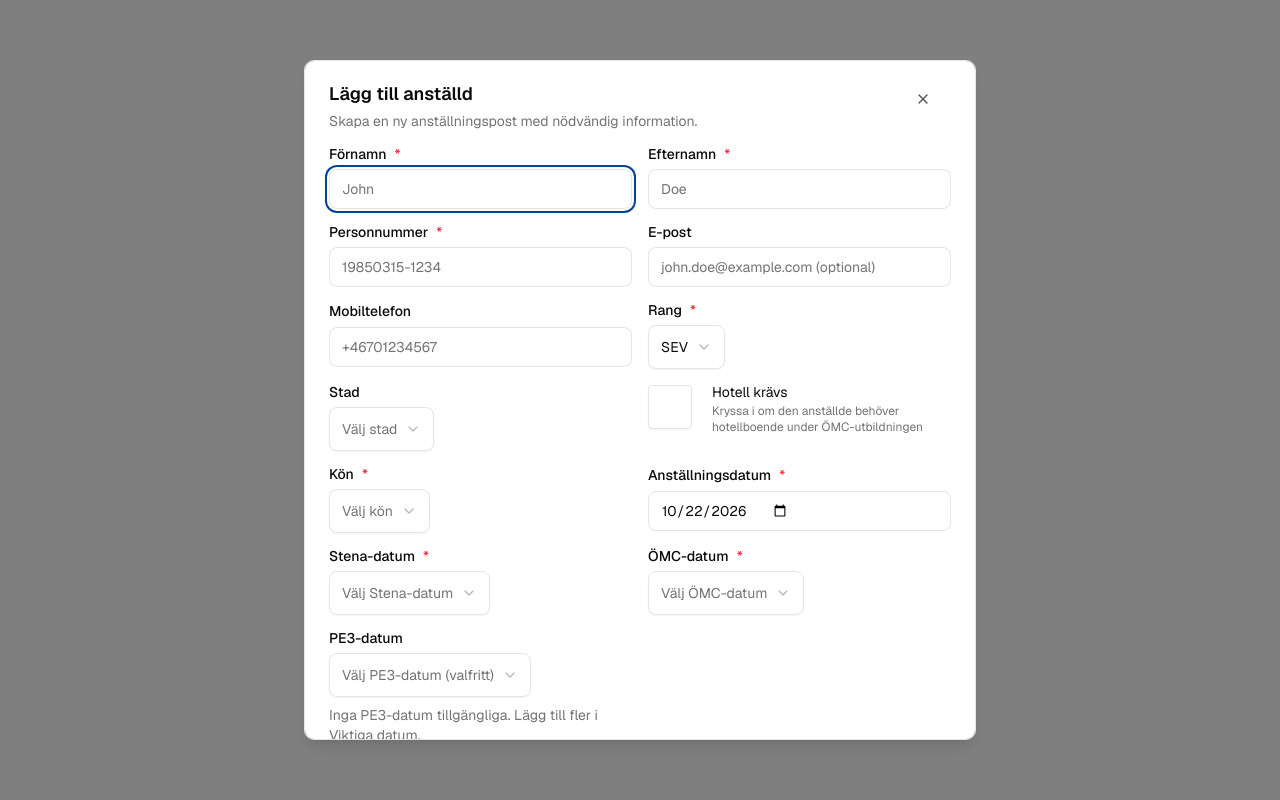
Scenario: AddEmployeeModal › Date Dropdown Remaining Spots Display › should display remaining spots in parentheses for ÖMC dates in dropdown
# Open ÖMC date dropdown
Click the dropdown labelled "Välj ÖMC-datum" at (726, 593), box x1=648 y1=571 x2=804 y2=615
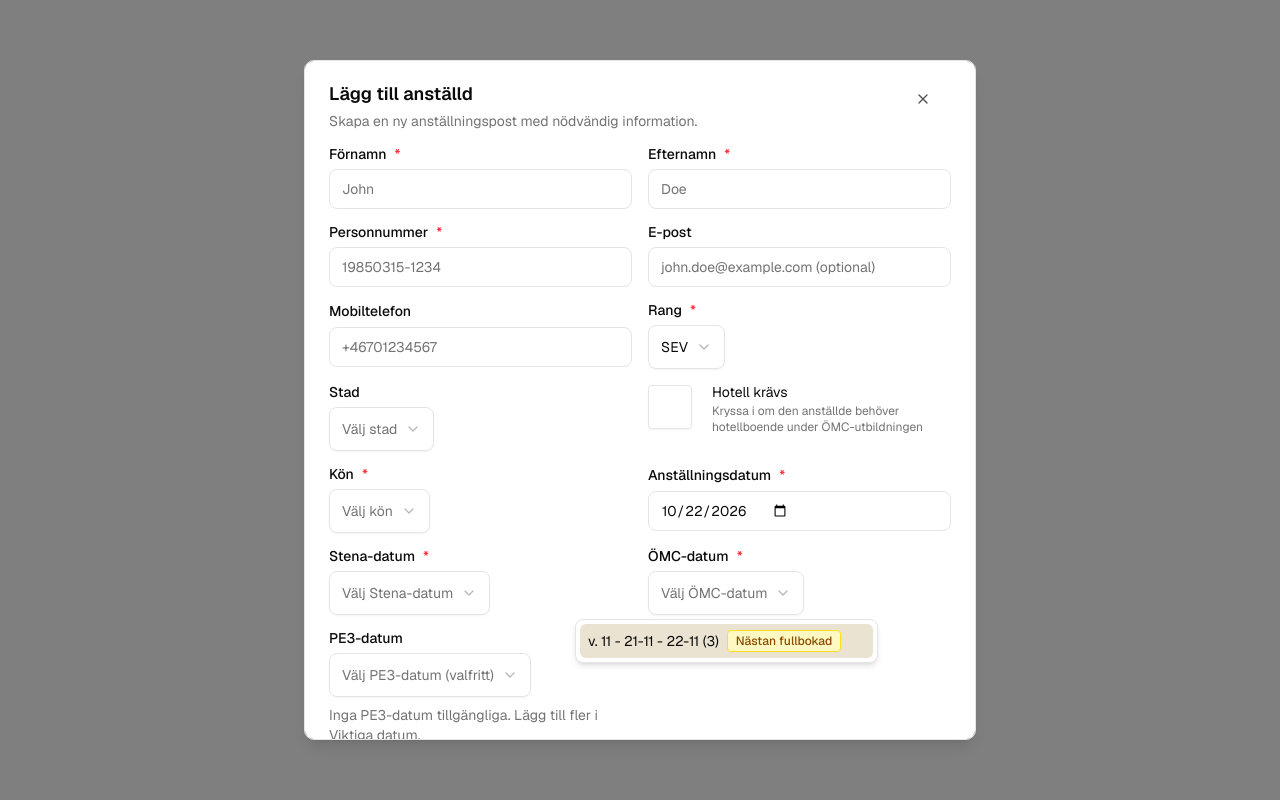
Result: the list is shown at x1=575 y1=619 x2=878 y2=663
Result: the option "v. 11 - 21-11 - 22-11 (3) Nästan fullbokad" is shown at x1=580 y1=624 x2=873 y2=658
